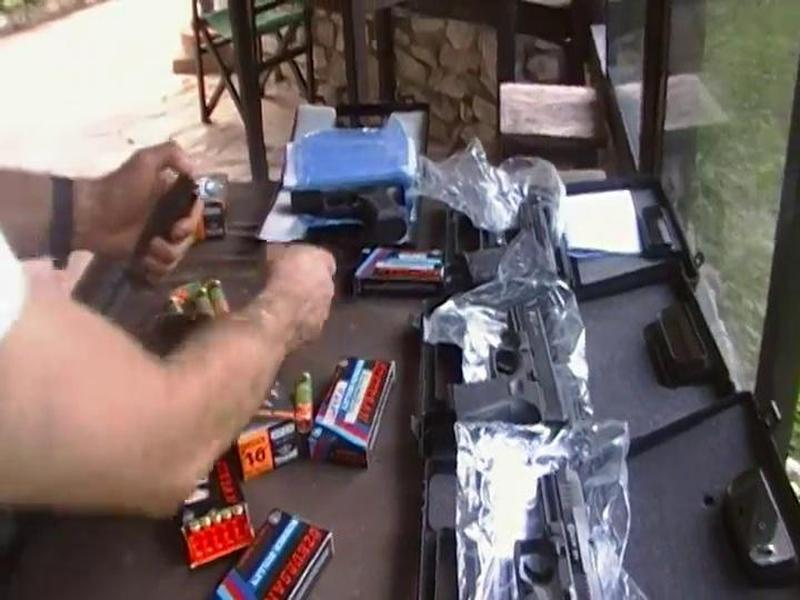Pistola: (442, 300, 603, 439)
